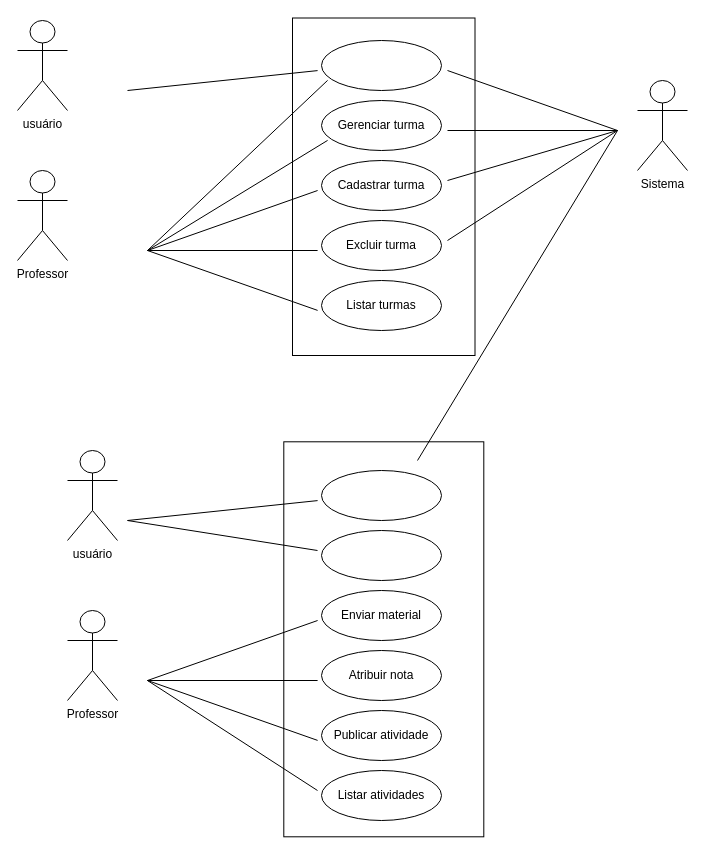
This 705x854 diagram has some shape labels left out. Here are the shapes that lost their labels. From the top down, the centre of each, then its label:
[381,65]: Visualizar turma
[381,495]: Cadastrar no sistema
[381,555]: interagir com o conteúdo
